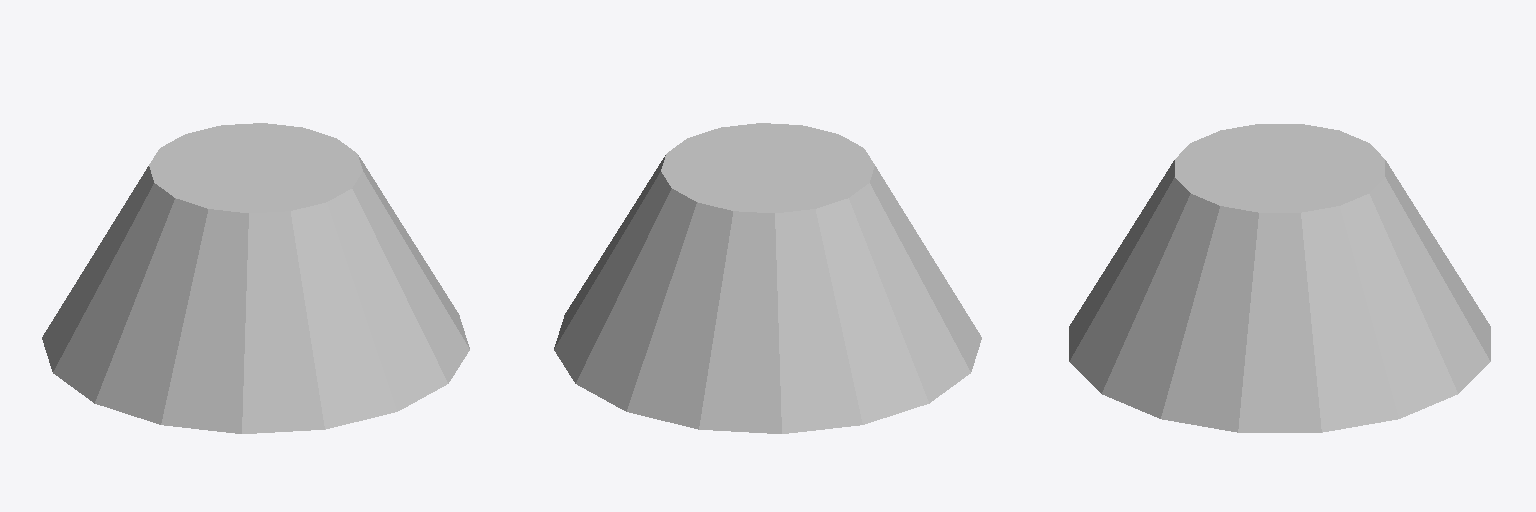
File: Alnair_Crew_1_Collider.obj
The picture shows the model from 3 angles: view 1: azimuth 30°, elevation 25°; view 2: azimuth 150°, elevation 25°; view 3: azimuth 270°, elevation 25°; orthographic projection.
Visible parts, largest first — view 1: Alnair_Crew_1_Collider; view 2: Alnair_Crew_1_Collider; view 3: Alnair_Crew_1_Collider.
Part boxes in pixels (x1,y1,x2,y2): Alnair_Crew_1_Collider: (42,123,469,433); Alnair_Crew_1_Collider: (554,123,981,433); Alnair_Crew_1_Collider: (1069,124,1490,432).
Bounding box in the file's own units: 1.88 × 0.8625 × 1.88.